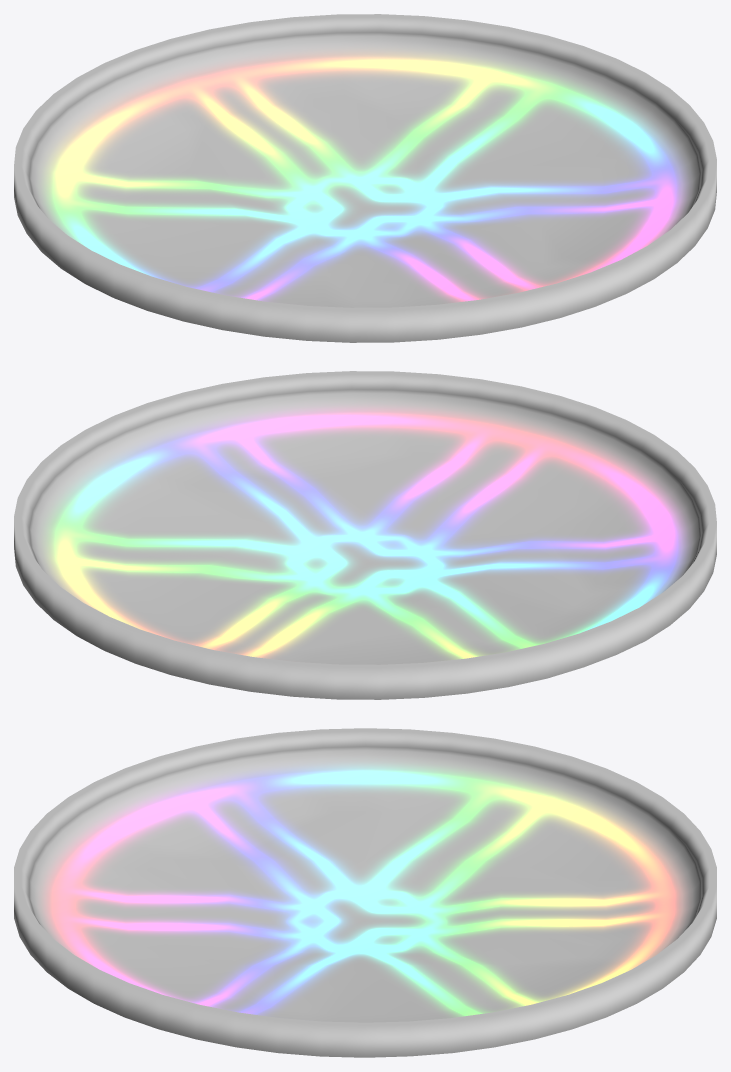
File: arena_002.fbx
3 views of the same model, one above another, from view 1: azimuth 30°, elevation 25°; view 2: azimuth 150°, elevation 25°; view 3: azimuth 270°, elevation 25° (orthographic).
Visible parts, largest first — view 1: Arena_002; view 2: Arena_002; view 3: Arena_002.
Boxes of the visible parts, <box> form: Arena_002: <box>14,14,716,342</box>; Arena_002: <box>14,371,716,699</box>; Arena_002: <box>14,728,716,1057</box>.
Size of the model in its own units: 20000 by 1402 by 19961.
